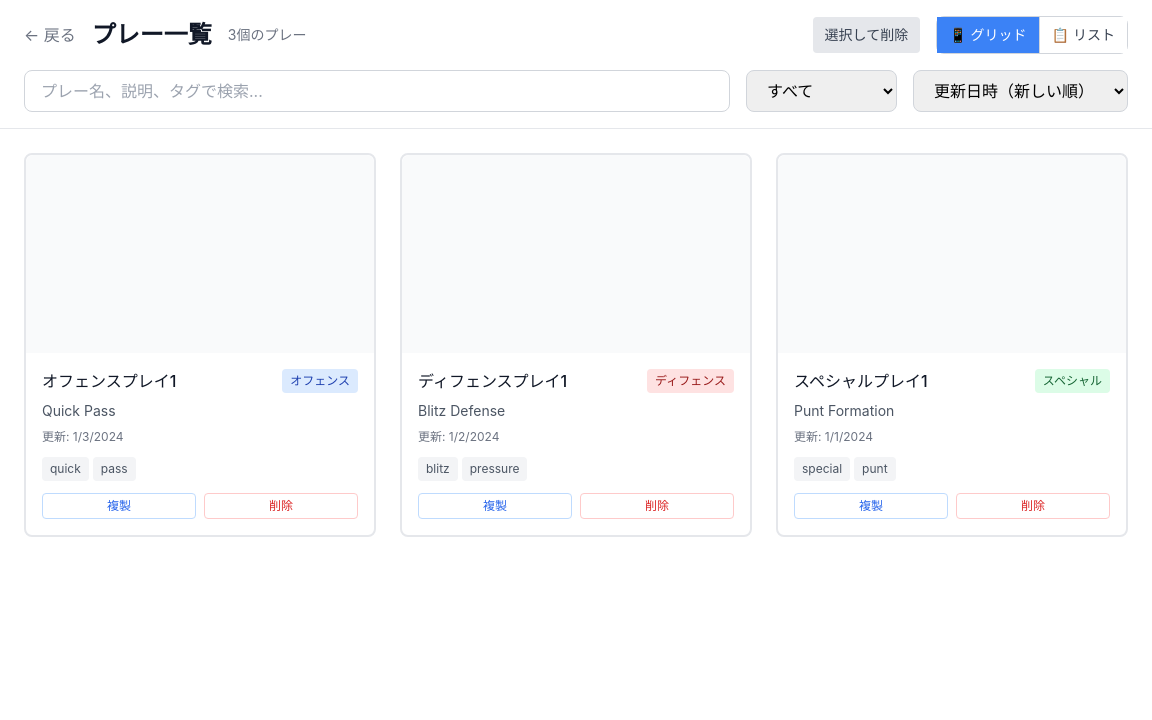
Test: PlayLibrary › ビュー切り替え › リストビューに切り替えられること
Click the button "📋 リスト".
click(1083, 35)  # box [1039,17,1127,53]
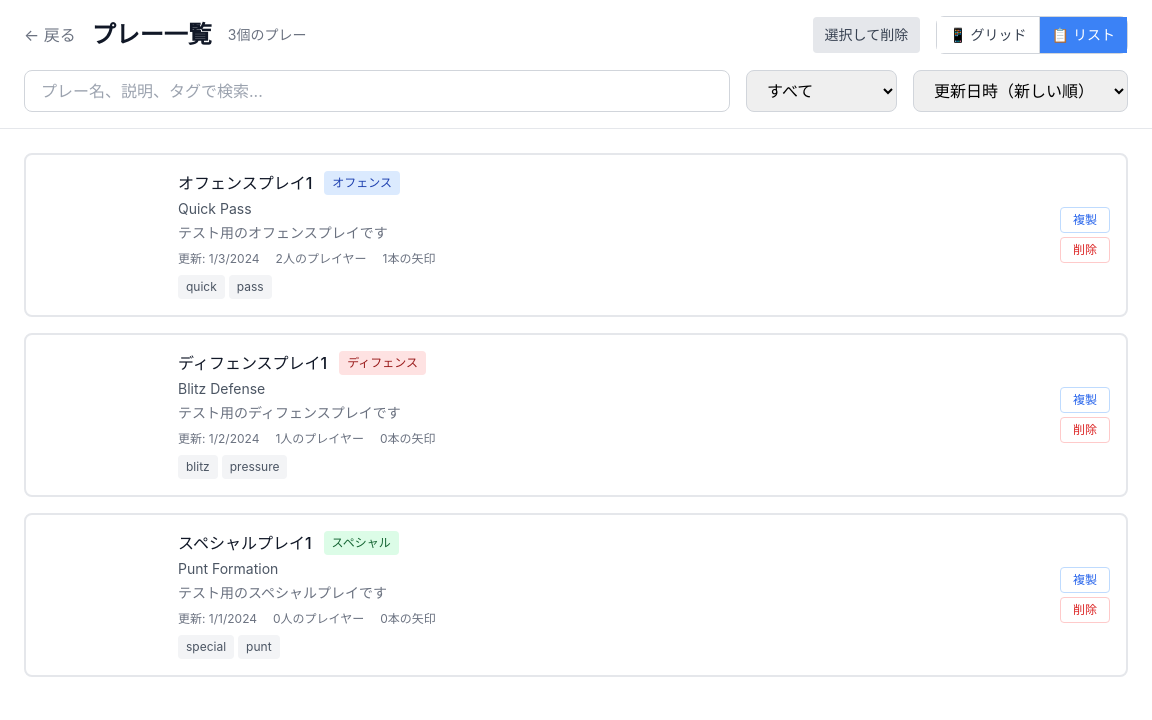
Expected: the text "テスト用のオフェンスプレイです" is shown, [178,224,388,241]
